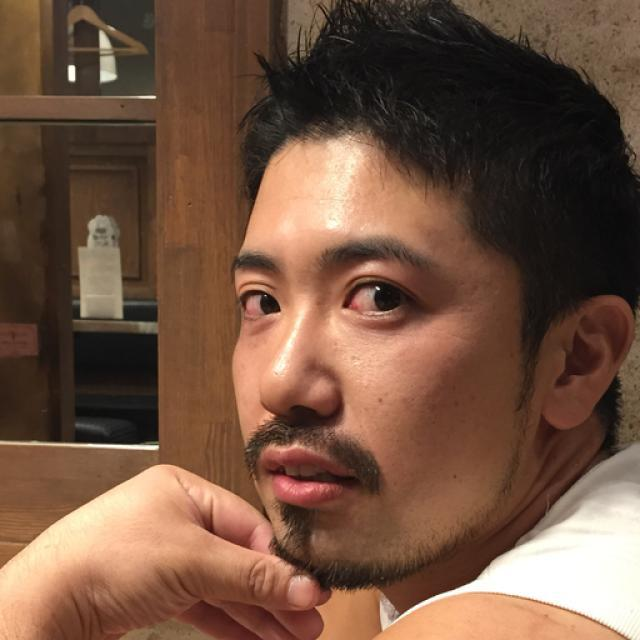neutral: (227, 130, 538, 584)
